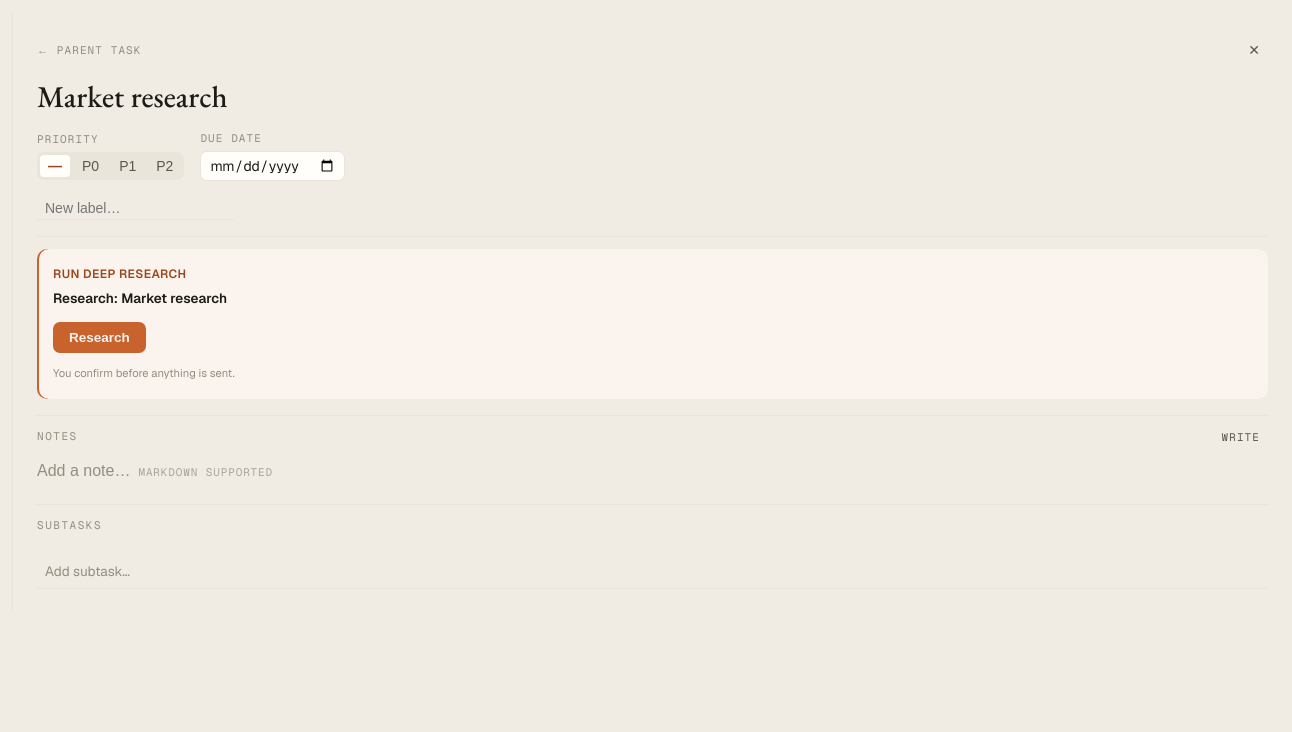
DetailPaneView (store-wired) › upserts the parent into the store after a subtask finishOffer resolves
What coordinates should you click on to do the following:
click the button "Research"
I would click on:
 (99, 337)
Its box is [53,322,146,353].
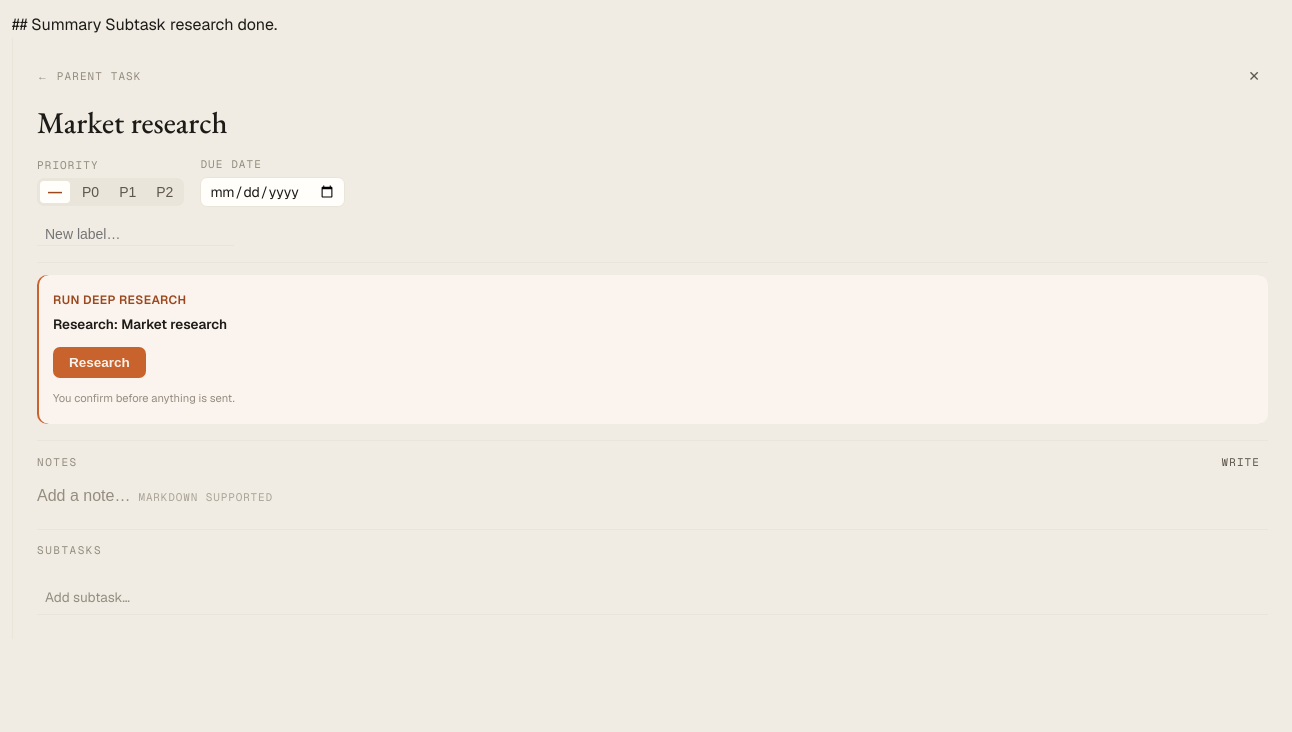
expect the text with test id "parent-detail" shows "## Summary": met, box [12,14,277,35]
